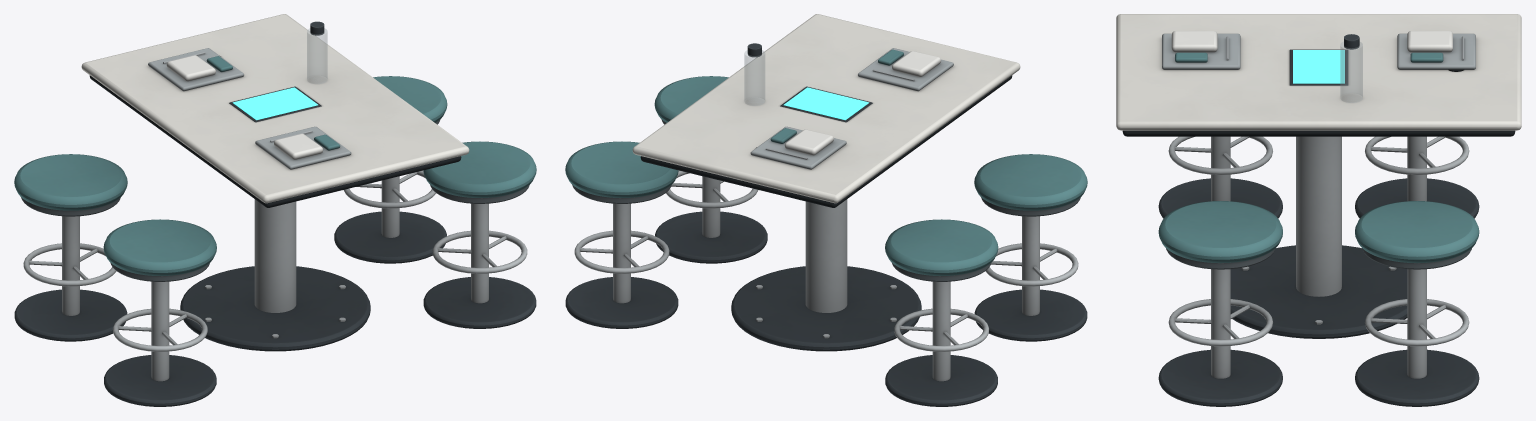
File: galley_table_set.glb
3 views of the same model, side by side, from view 1: azimuth 30°, elevation 25°; view 2: azimuth 150°, elevation 25°; view 3: azimuth 270°, elevation 25° (orthographic). The views are drawn at different scales.
Parts seen in each view (by area): view 1: top_surface_shell_white, pedestal_base_frame_graphite, stool_1_seat_fabric_teal, stool_0_seat_fabric_teal, pedestal_column_satin_alloy, stool_2_seat_fabric_teal, stool_0_base_frame_graphite, stool_2_base_frame_graphite, stool_3_base_frame_graphite, stool_1_base_frame_graphite, top_edge_deep_graphite, stool_0_stem_satin_alloy (+17 smaller); view 2: top_surface_shell_white, pedestal_base_frame_graphite, stool_0_seat_fabric_teal, stool_1_seat_fabric_teal, pedestal_column_satin_alloy, stool_3_seat_fabric_teal, stool_1_base_frame_graphite, stool_3_base_frame_graphite, stool_2_base_frame_graphite, stool_0_base_frame_graphite, top_edge_deep_graphite, stool_1_stem_satin_alloy (+17 smaller); view 3: top_surface_shell_white, pedestal_base_frame_graphite, pedestal_column_satin_alloy, stool_2_seat_fabric_teal, stool_3_seat_fabric_teal, stool_2_base_frame_graphite, stool_3_base_frame_graphite, top_edge_deep_graphite, stool_0_base_frame_graphite, stool_1_base_frame_graphite, stool_2_stem_satin_alloy, stool_3_stem_satin_alloy (+19 smaller).
Part boxes in pixels (x1=…): top_surface_shell_white: x1=81, y1=14, x2=469, y2=203; pedestal_base_frame_graphite: x1=180, y1=266, x2=370, y2=351; stool_1_seat_fabric_teal: x1=14, y1=154, x2=127, y2=210; stool_0_seat_fabric_teal: x1=103, y1=219, x2=216, y2=275; pedestal_column_satin_alloy: x1=254, y1=199, x2=296, y2=312; stool_2_seat_fabric_teal: x1=423, y1=141, x2=536, y2=197; stool_0_base_frame_graphite: x1=104, y1=355, x2=216, y2=406; stool_2_base_frame_graphite: x1=423, y1=277, x2=536, y2=328; stool_3_base_frame_graphite: x1=334, y1=211, x2=446, y2=263; stool_1_base_frame_graphite: x1=14, y1=289, x2=127, y2=341; top_edge_deep_graphite: x1=89, y1=75, x2=461, y2=207; stool_0_stem_satin_alloy: x1=151, y1=281, x2=169, y2=381; top_surface_shell_white: x1=632, y1=14, x2=1020, y2=203; pedestal_base_frame_graphite: x1=731, y1=266, x2=921, y2=351; stool_0_seat_fabric_teal: x1=974, y1=154, x2=1087, y2=210; stool_1_seat_fabric_teal: x1=885, y1=219, x2=998, y2=275; pedestal_column_satin_alloy: x1=805, y1=199, x2=847, y2=312; stool_3_seat_fabric_teal: x1=565, y1=141, x2=678, y2=197; stool_1_base_frame_graphite: x1=885, y1=355, x2=997, y2=406; stool_3_base_frame_graphite: x1=565, y1=277, x2=678, y2=328; stool_2_base_frame_graphite: x1=655, y1=211, x2=767, y2=263; stool_0_base_frame_graphite: x1=974, y1=289, x2=1087, y2=341; top_edge_deep_graphite: x1=640, y1=75, x2=1012, y2=207; stool_1_stem_satin_alloy: x1=932, y1=281, x2=950, y2=381; top_surface_shell_white: x1=1116, y1=14, x2=1521, y2=130; pedestal_base_frame_graphite: x1=1230, y1=245, x2=1407, y2=338; pedestal_column_satin_alloy: x1=1296, y1=136, x2=1341, y2=296; stool_2_seat_fabric_teal: x1=1158, y1=201, x2=1282, y2=263; stool_3_seat_fabric_teal: x1=1355, y1=201, x2=1479, y2=263; stool_2_base_frame_graphite: x1=1158, y1=349, x2=1282, y2=406; stool_3_base_frame_graphite: x1=1355, y1=349, x2=1479, y2=406; top_edge_deep_graphite: x1=1122, y1=130, x2=1515, y2=136; stool_0_base_frame_graphite: x1=1158, y1=178, x2=1282, y2=218; stool_1_base_frame_graphite: x1=1355, y1=178, x2=1479, y2=218; stool_2_stem_satin_alloy: x1=1211, y1=269, x2=1230, y2=378; stool_3_stem_satin_alloy: x1=1407, y1=269, x2=1426, y2=378.
Bounding box in the file's own units: 1.62 × 0.975 × 1.24.
Materials: 4 (1 with a texture image).
